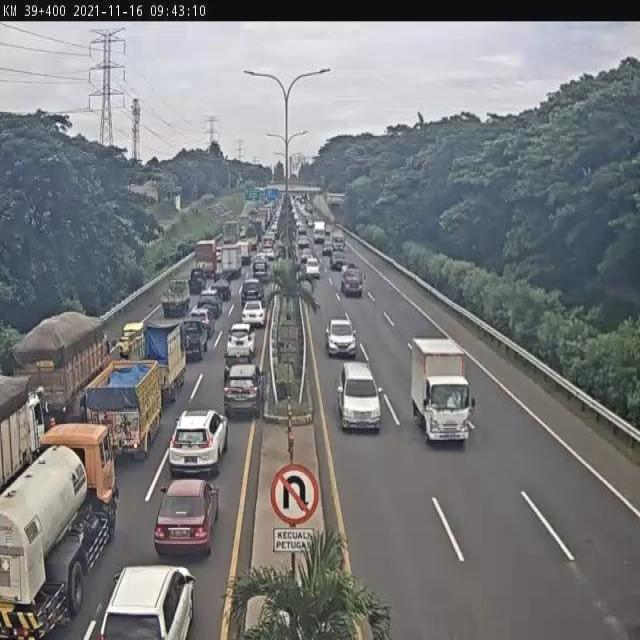Car: (170, 409, 229, 478), (223, 364, 264, 418), (325, 317, 356, 358), (226, 321, 257, 359), (222, 345, 254, 381), (118, 320, 144, 357), (187, 308, 216, 337), (239, 301, 269, 328), (198, 288, 224, 316), (240, 277, 264, 304), (304, 256, 322, 279), (253, 263, 271, 283), (253, 252, 270, 270), (330, 253, 344, 270), (332, 234, 345, 251), (300, 247, 314, 262), (262, 247, 275, 263), (262, 236, 274, 252), (297, 235, 311, 248), (322, 240, 333, 256), (216, 244, 223, 262), (299, 223, 306, 233)
Truck: (0, 416, 122, 640), (12, 312, 113, 429), (83, 357, 166, 460), (0, 369, 54, 496), (410, 336, 473, 444), (128, 317, 189, 404), (178, 317, 210, 361), (160, 277, 192, 317), (340, 260, 368, 300), (194, 239, 218, 278), (220, 241, 243, 278), (211, 272, 234, 302), (187, 267, 206, 295), (222, 221, 240, 247), (244, 222, 259, 252), (237, 240, 254, 266), (313, 220, 326, 244)
Van: (337, 359, 384, 433)
